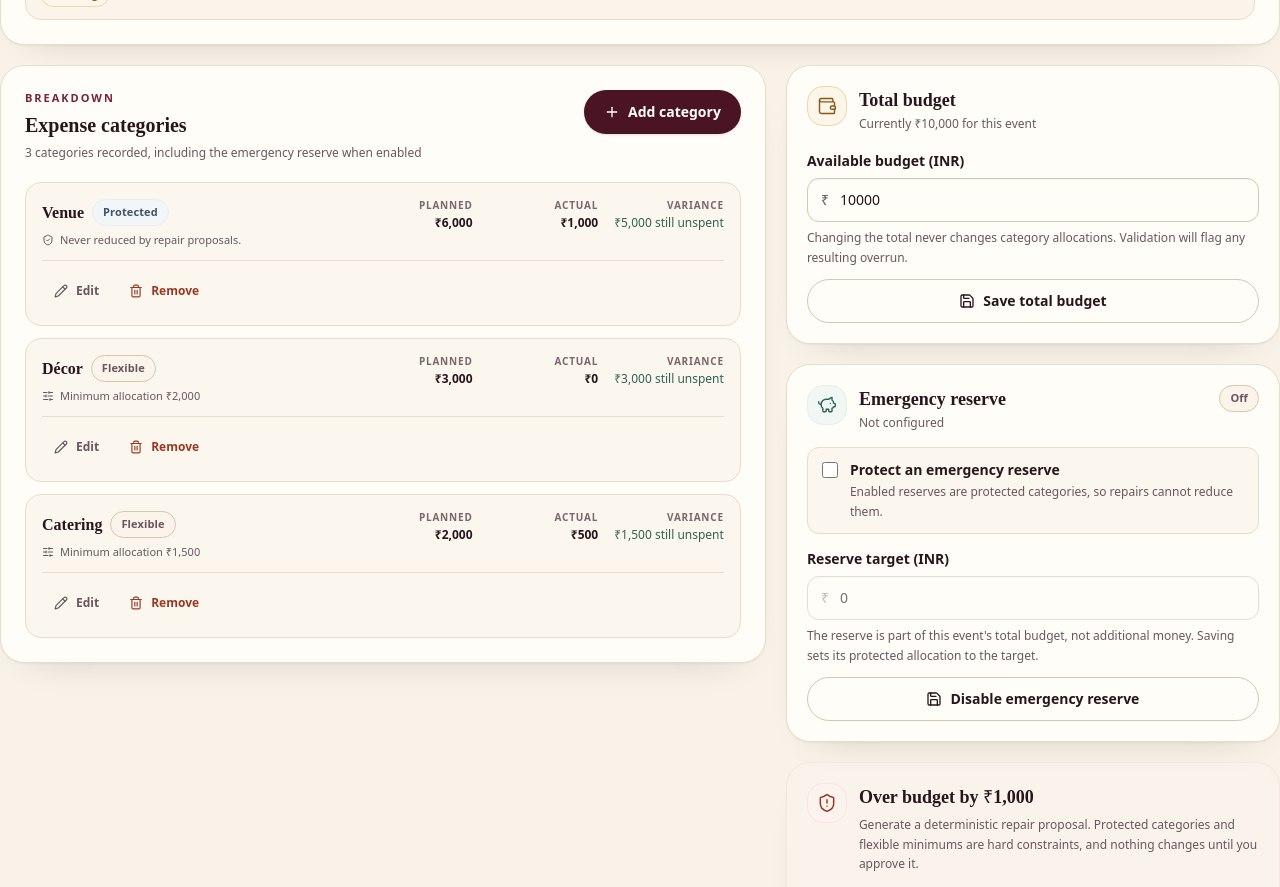
Test: BudgetPlannerPage › edits a category in place without changing its siblings
(page scrolled)
Click the button with aria-label "Edit Décor".
click(77, 447)  # box x1=42 y1=429 x2=111 y2=465
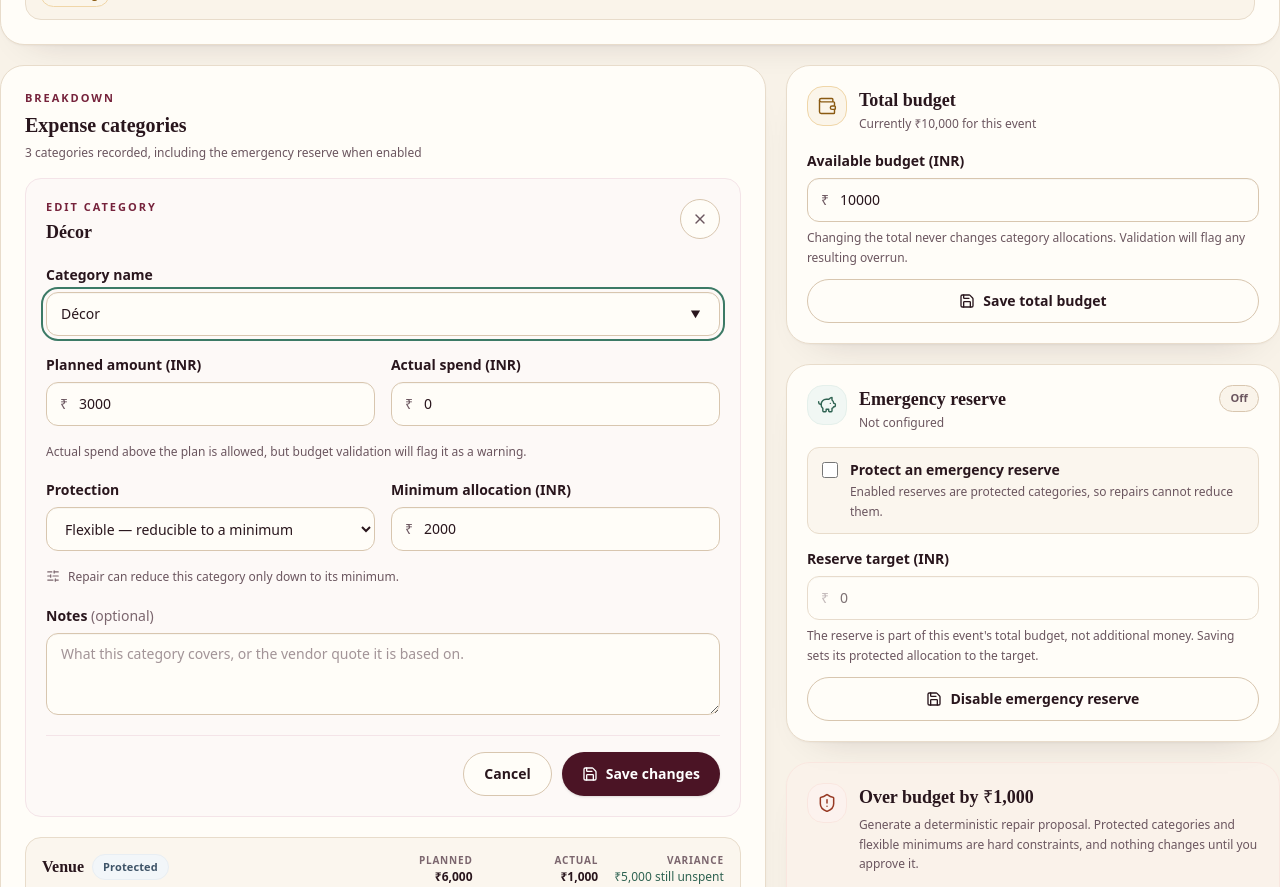
Replace the text in the field labelled "Planned amount (INR)" with "2,500" at point(210, 404), box x1=46 y1=382 x2=375 y2=426
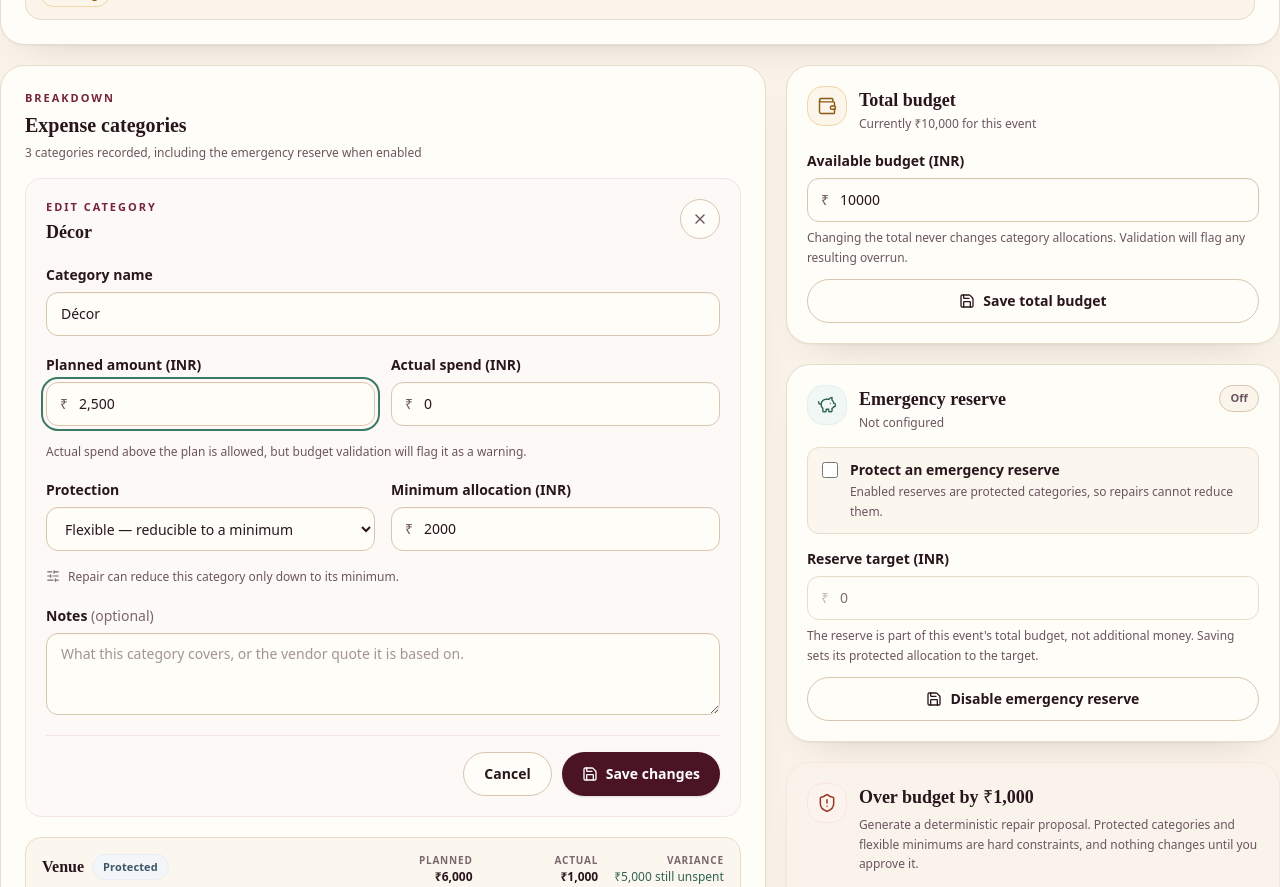
Click the button "Save changes".
click(641, 774)  # box x1=562 y1=752 x2=720 y2=796
(page scrolled)
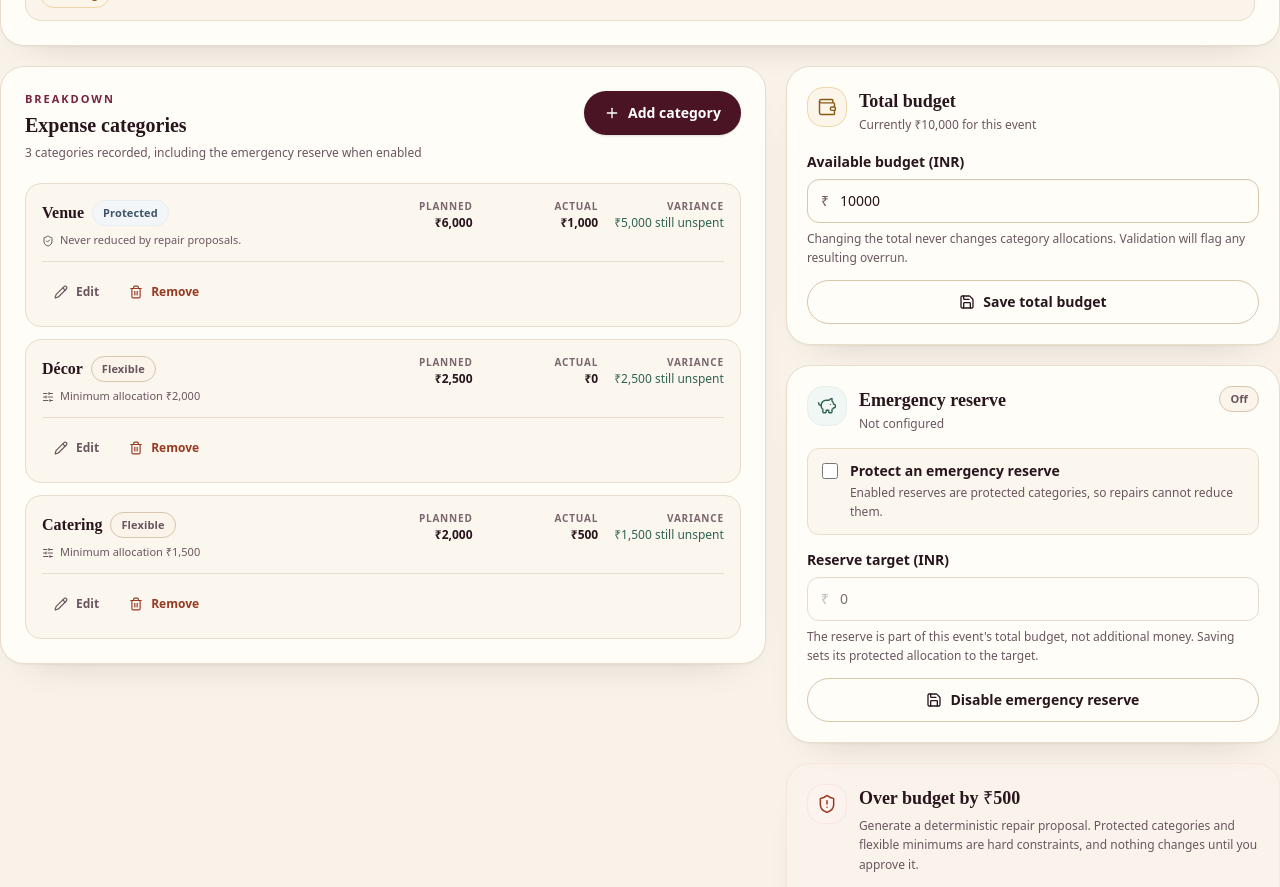
Expected: the list item "Venue" shows "₹6,000", x1=435 y1=214 x2=473 y2=231
Result: the list item "Décor" shows "₹2,500" at x1=435 y1=370 x2=473 y2=387
